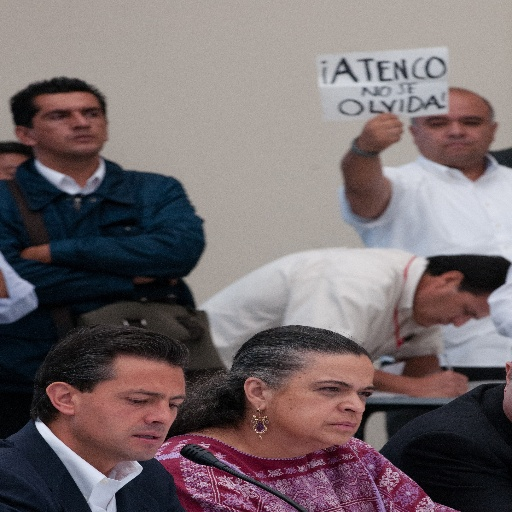hand: (360, 109, 426, 148), (406, 368, 468, 399), (16, 247, 51, 263), (132, 276, 178, 288)
